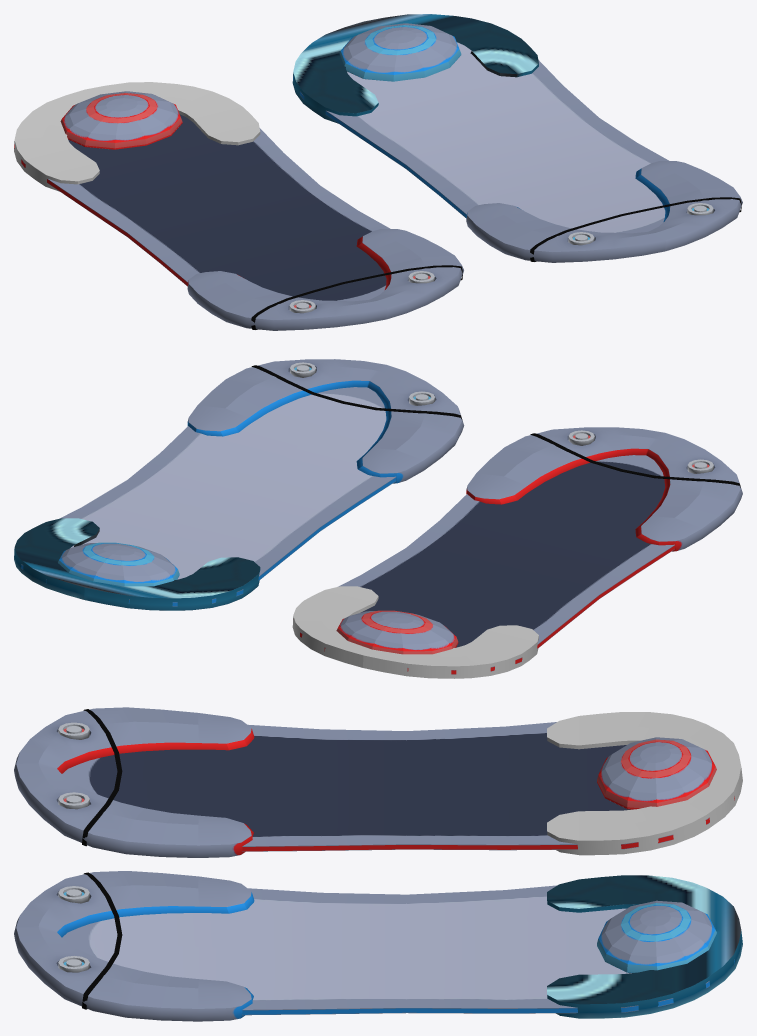
Rendered from Hower Board.fbx.
3 renders of one model, top to bottom at view 1: azimuth 30°, elevation 25°; view 2: azimuth 150°, elevation 25°; view 3: azimuth 270°, elevation 25°, orthographic. The views are drawn at different scales.
Parts seen in each view (by area): view 1: pPlane3 (×2), pCylinder5 (×2), pCylinder7 (×2), pSphere4 (×2), BlackLine (×2); view 2: pPlane3 (×2), pCylinder5 (×2), pCylinder7 (×2), pSphere4 (×2), BlackLine (×2); view 3: pPlane3 (×2), pCylinder5 (×2), pCylinder7 (×2), pSphere4 (×2), BlackLine (×2).
Part boxes in pixels (left/top/right/bottom): pPlane3 (×2): left=14, top=42, right=668, bottom=301; pCylinder5 (×2): left=187, top=161, right=742, bottom=330; pCylinder7 (×2): left=14, top=14, right=538, bottom=191; pSphere4 (×2): left=60, top=23, right=461, bottom=149; BlackLine (×2): left=251, top=197, right=741, bottom=329; pPlane3 (×2): left=21, top=387, right=674, bottom=674; pCylinder5 (×2): left=187, top=359, right=742, bottom=551; pCylinder7 (×2): left=14, top=518, right=538, bottom=678; pSphere4 (×2): left=58, top=542, right=458, bottom=654; BlackLine (×2): left=251, top=365, right=740, bottom=487; pPlane3 (×2): left=62, top=722, right=734, bottom=1015; pCylinder5 (×2): left=14, top=707, right=254, bottom=1021; pCylinder7 (×2): left=547, top=712, right=742, bottom=1018; pSphere4 (×2): left=597, top=737, right=716, bottom=972; BlackLine (×2): left=82, top=709, right=122, bottom=1009.
Size of the model in its own units: 9.39 by 0.9114 by 9.63.
